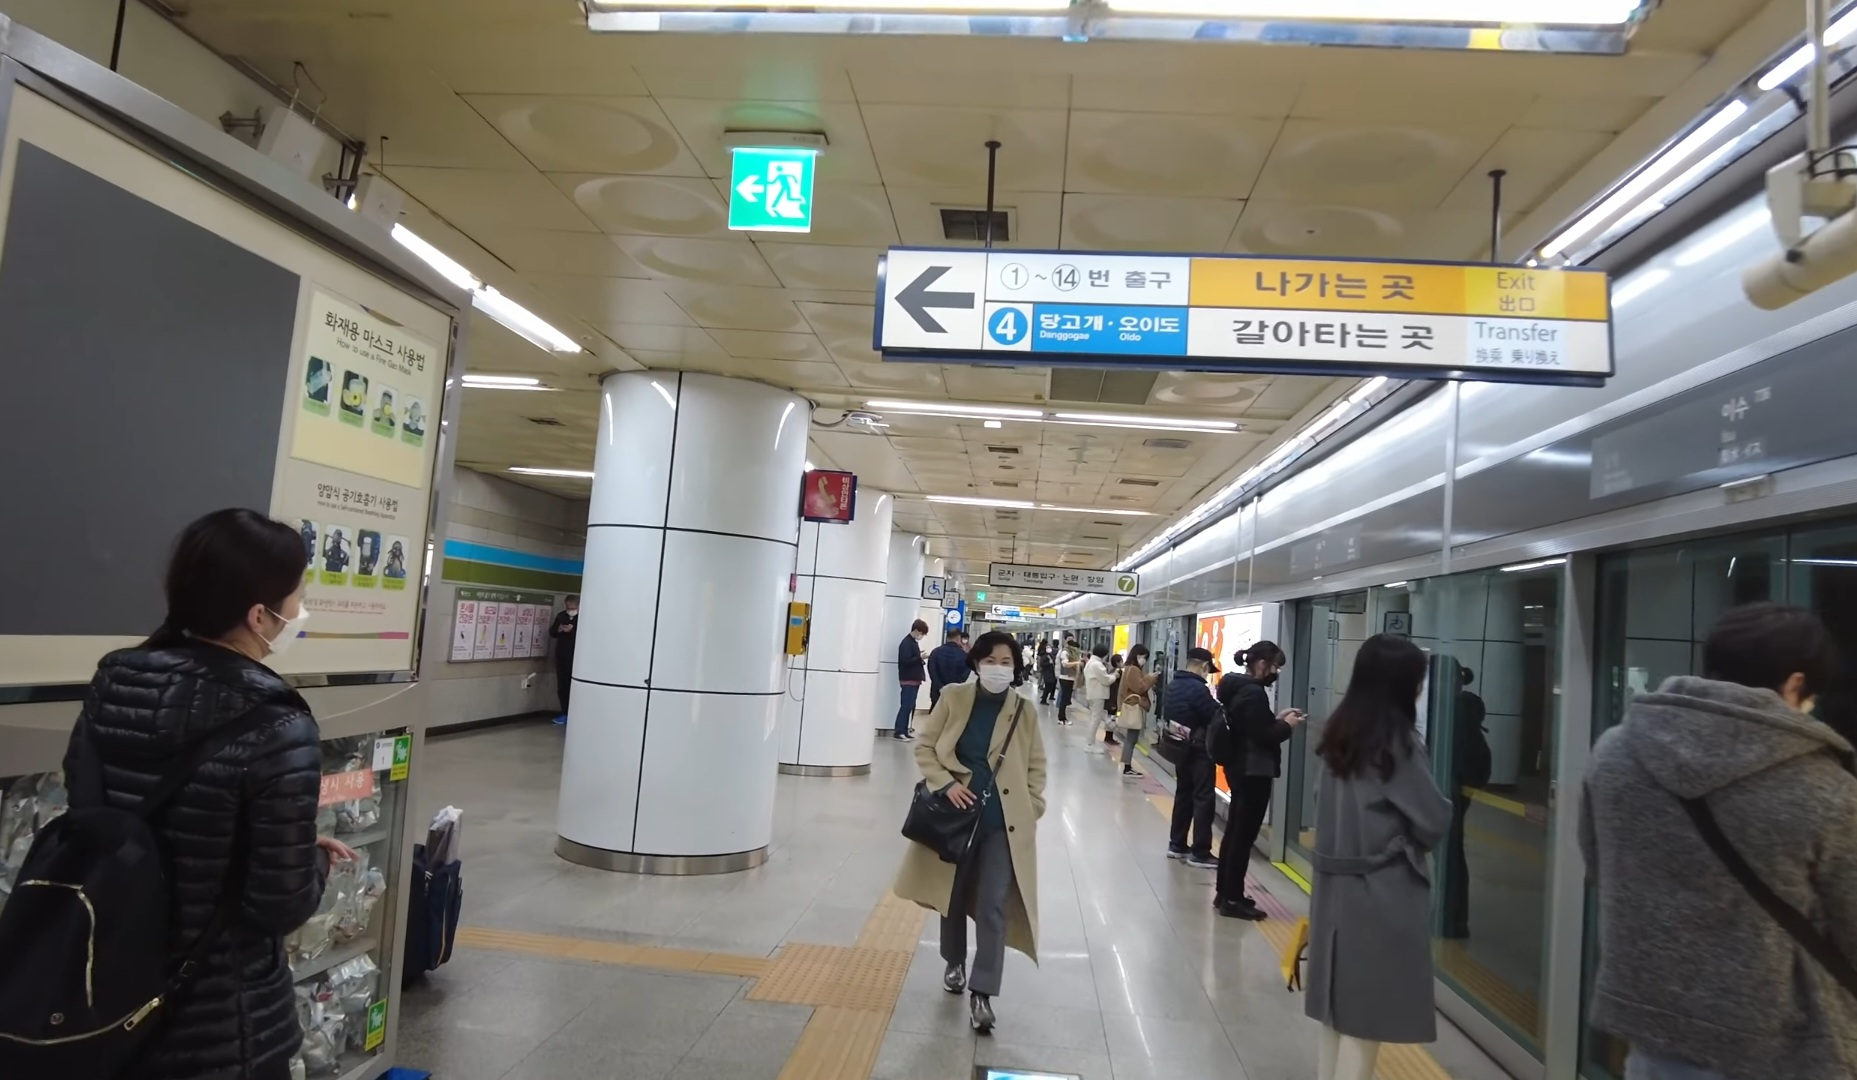signBoard: (871, 248, 1624, 384)
